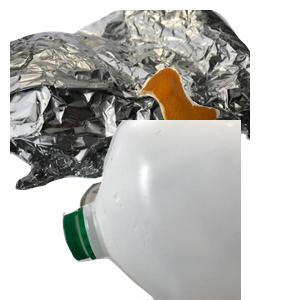glass: (77, 178, 205, 300)
metal: (10, 10, 250, 190)
plastic: (60, 120, 300, 300)
trash: (137, 65, 300, 188)
